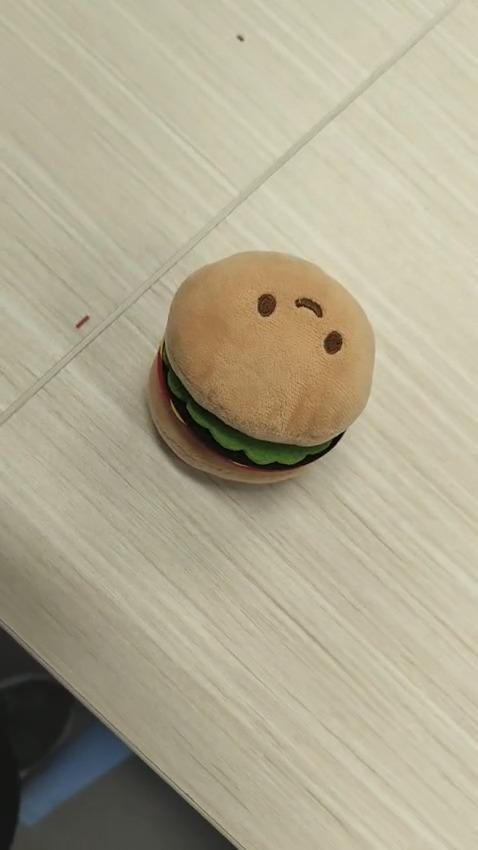hamburger: (145, 249, 375, 486)
